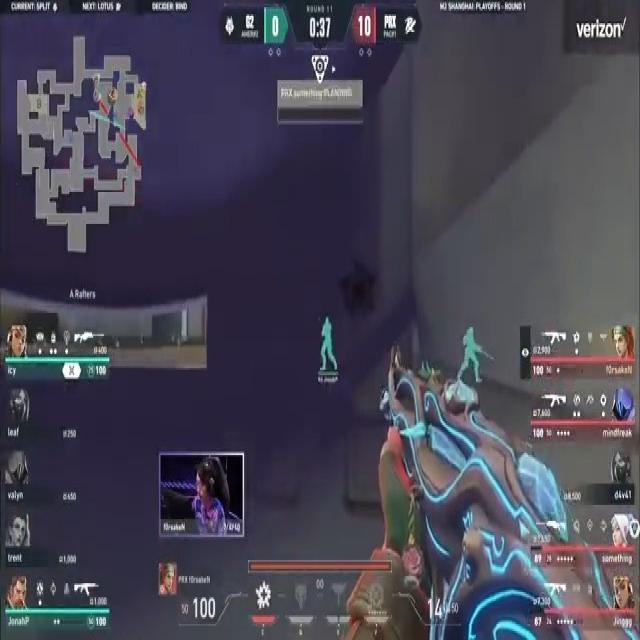ally behind wall: (459, 319, 495, 387), (318, 311, 341, 378)
